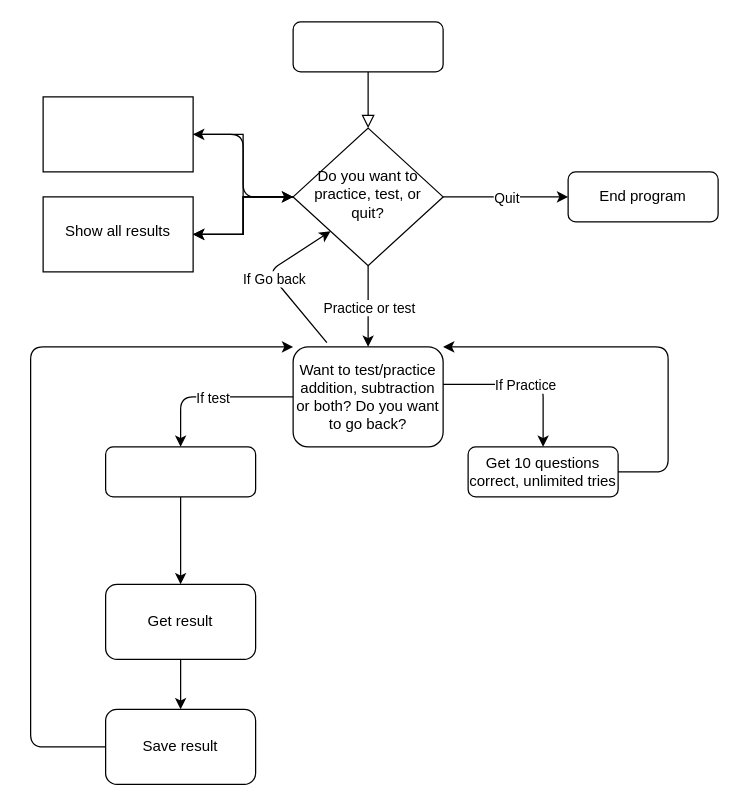
This 740x806 diagram has some shape labels left out. Here are the shapes that lost their labels. From the top down, the centre of each, then its label:
At (x=367, y=46): "Enter name of user".
At (x=117, y=134): "Show the best result".
At (x=180, y=471): "Answer 15 questions".
